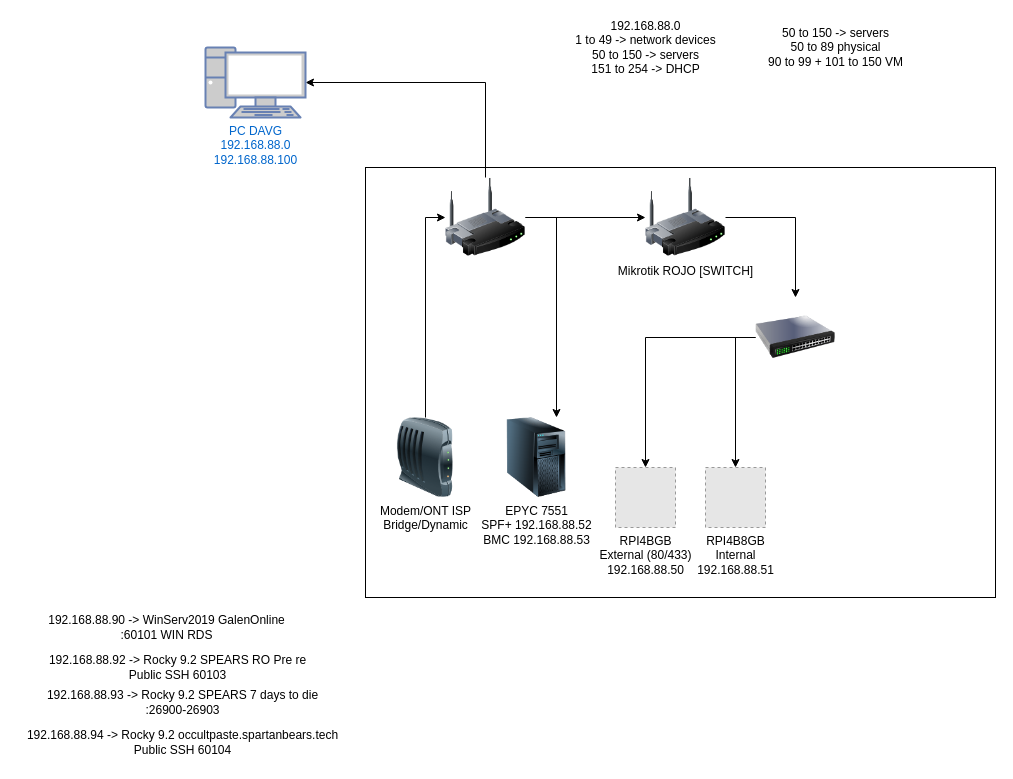
This 1013x779 diagram has some shape labels left out. Grey dashed boxes stand in for pictures. Here are the shapes that lost their labels. From the top down, the centre of each, then its label:
At point (485, 217): "Mikrotik NEGRO Brige/Dynamic 192.168.88.0 192.168.88.1".
At point (795, 337): "Switch POE+ (4 port)".
